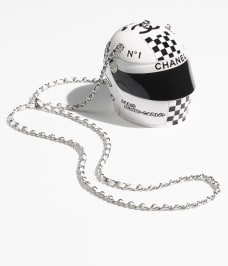channel: (89, 18, 202, 128), (100, 37, 137, 74), (139, 53, 188, 73)
